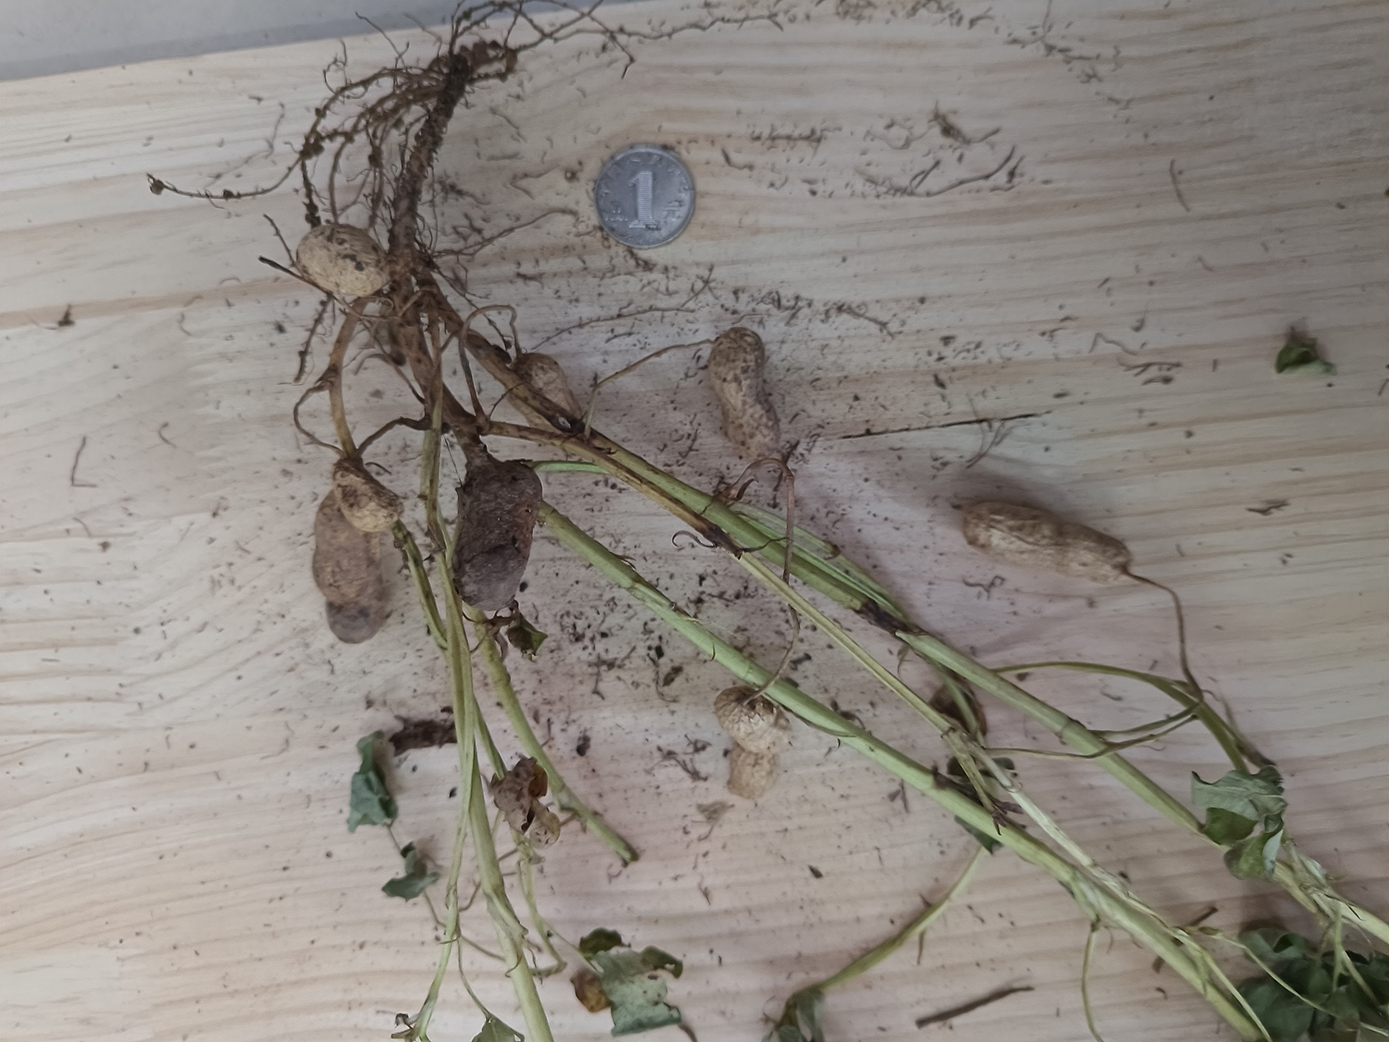h: (963, 498, 1132, 586), (710, 328, 780, 459), (715, 685, 788, 799), (296, 221, 387, 296), (505, 349, 582, 437), (334, 459, 402, 529)
l: (453, 462, 542, 612), (311, 489, 387, 644)
